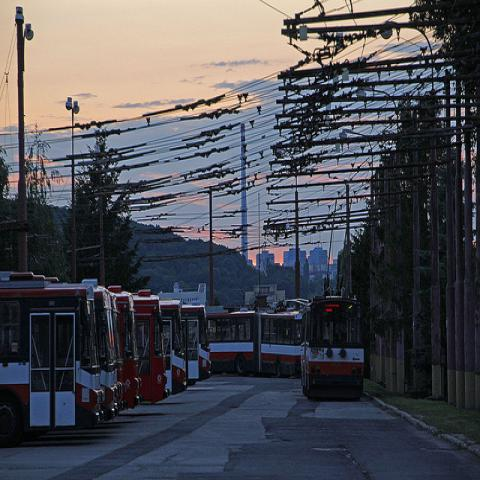bus: (301, 298, 366, 401), (90, 281, 122, 419), (132, 287, 170, 402), (109, 282, 140, 406), (160, 300, 188, 395), (180, 304, 211, 386)
